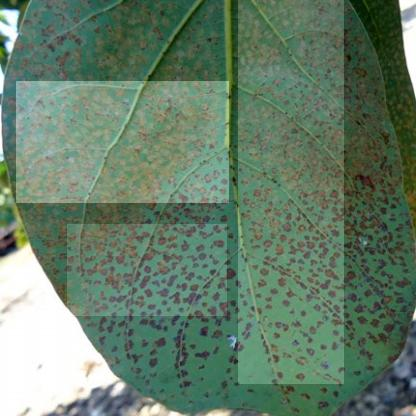black-spot: (238, 0, 344, 384), (16, 81, 229, 203), (67, 224, 227, 316), (358, 210, 402, 320)
